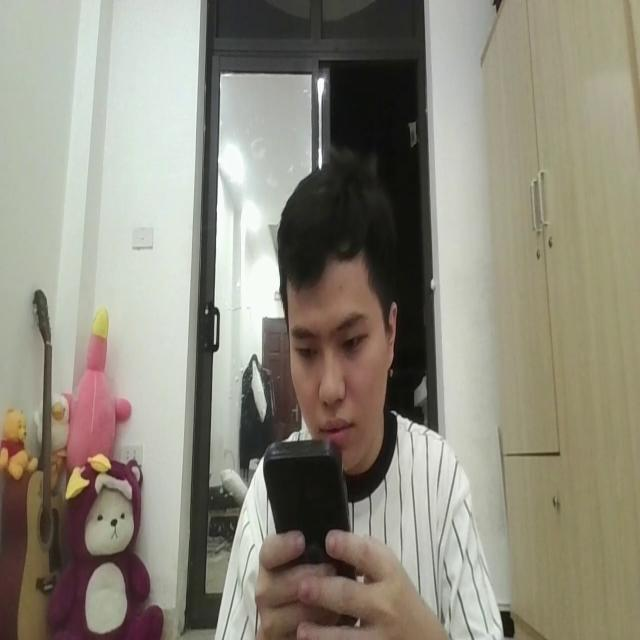phone: (263, 432, 360, 628)
student: (214, 148, 504, 640)
